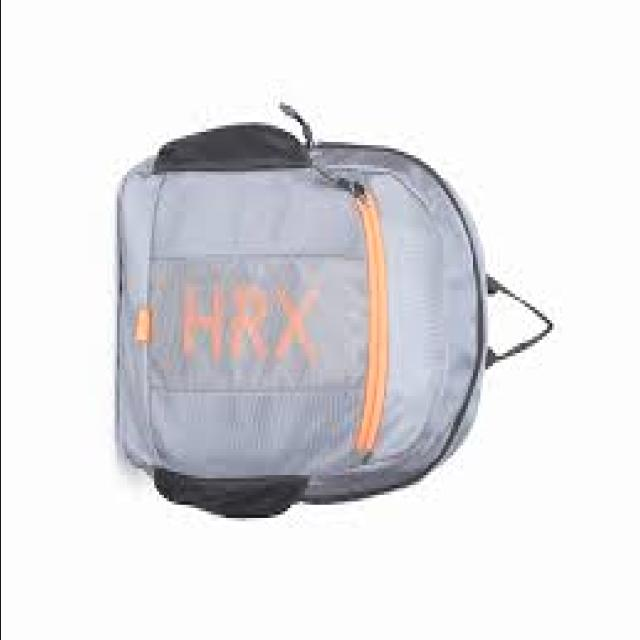backpack: (117, 103, 555, 519)
